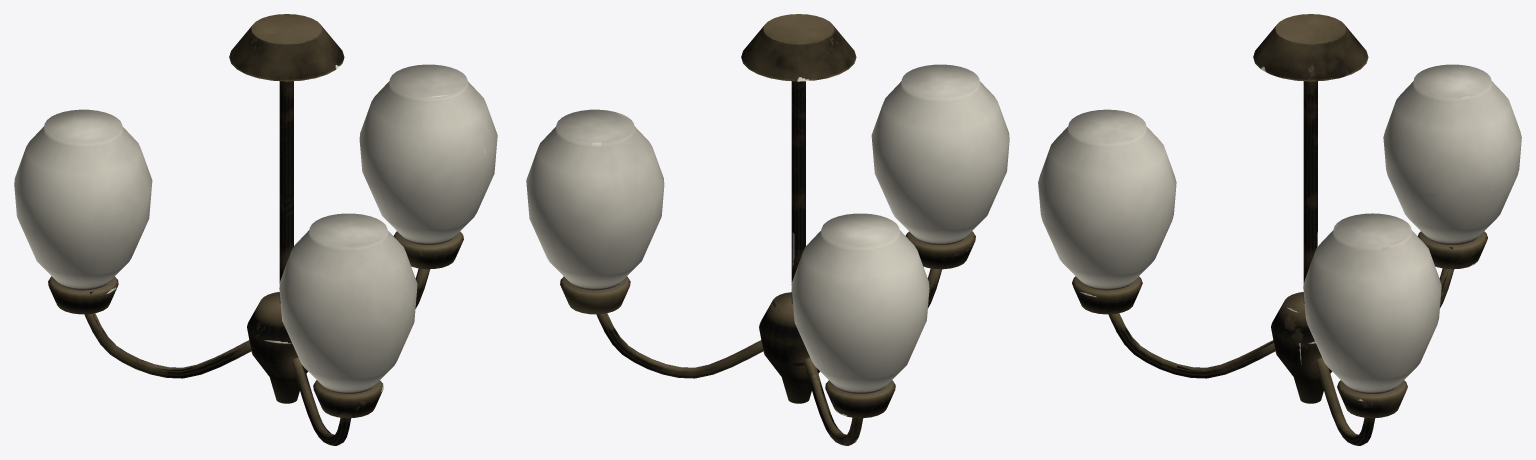
The model's file is Chandelier.fbx.
3 views of the same model, side by side, from view 1: azimuth 30°, elevation 25°; view 2: azimuth 150°, elevation 25°; view 3: azimuth 270°, elevation 25° (orthographic).
Parts seen in each view (by area): view 1: Chandelier_Glass, Chandelier_Mesh; view 2: Chandelier_Glass, Chandelier_Mesh; view 3: Chandelier_Glass, Chandelier_Mesh.
Boxes of the visible parts, left/top/right/bottom form: Chandelier_Glass: left=14, top=64, right=497, bottom=393; Chandelier_Mesh: left=48, top=14, right=463, bottom=445; Chandelier_Glass: left=526, top=64, right=1009, bottom=393; Chandelier_Mesh: left=560, top=14, right=975, bottom=445; Chandelier_Glass: left=1038, top=64, right=1521, bottom=393; Chandelier_Mesh: left=1072, top=14, right=1487, bottom=445.
Size of the model in its own units: 0.5529 by 0.465 by 0.5449.
